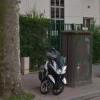Motorcycle: (28, 44, 66, 99)
